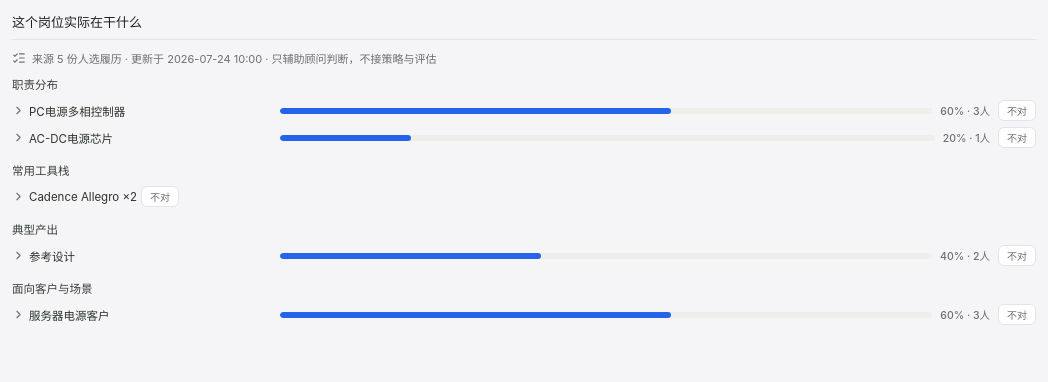
Test: 岗位画像区块（JobProfileInsights） › 纠正写入失败时不触发岗位详情回读
The width and height of the screenshot is (1048, 382).
Click the 1st button "不对": (1017, 110) [998,100,1036,121]
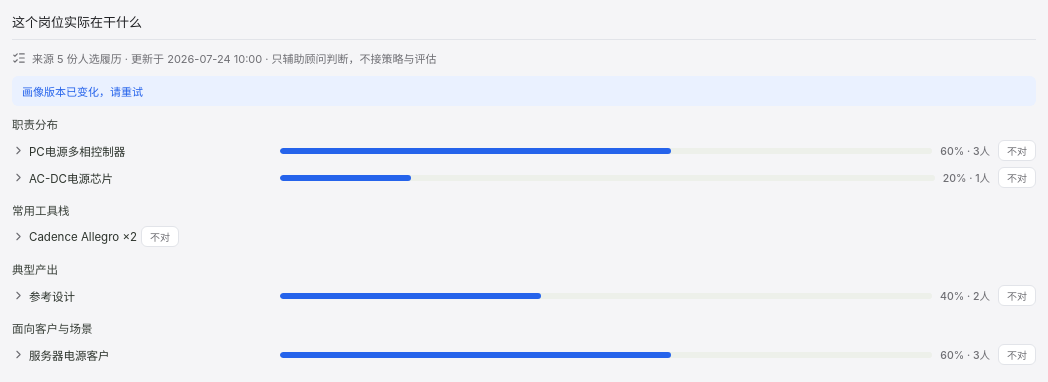
Now the text "画像版本已变化，请重试" is shown, box [12,76,1036,106]
